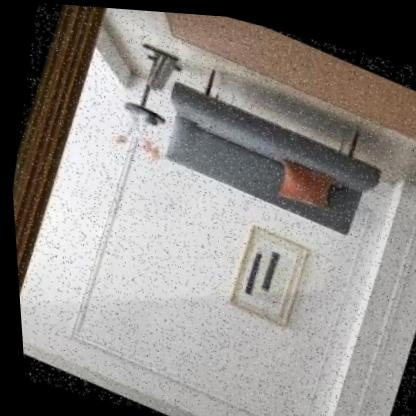Sofa: (126, 35, 416, 270)
